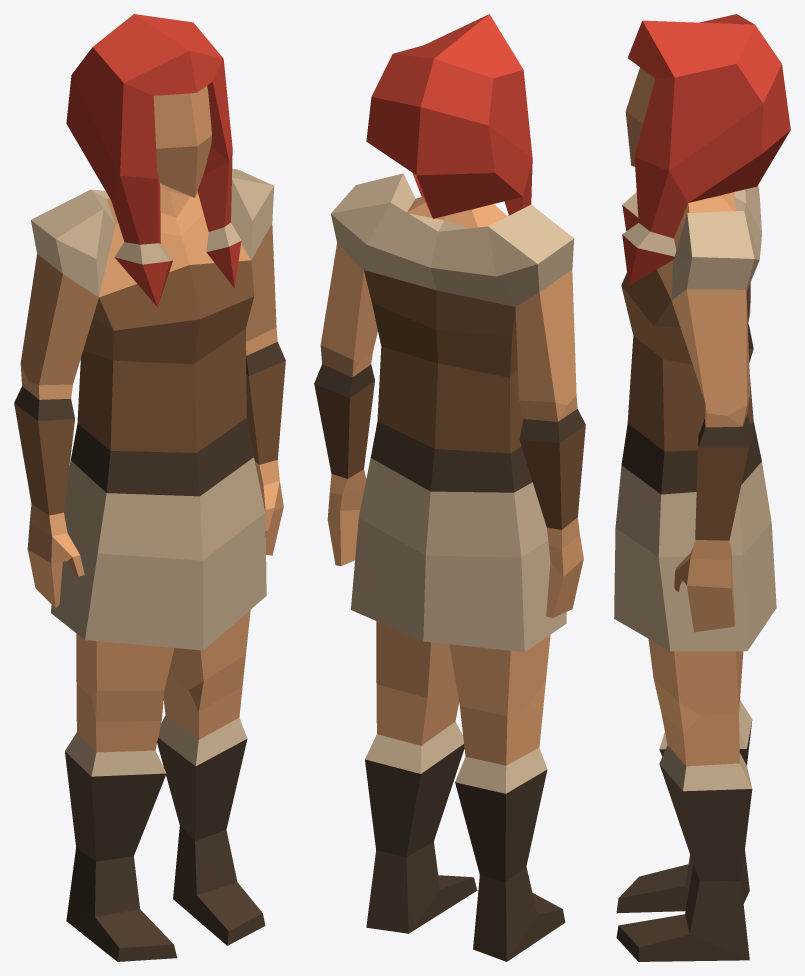
File: woman-viking.glb
The picture shows the model from 3 angles, left to right: view 1: azimuth 30°, elevation 25°; view 2: azimuth 150°, elevation 25°; view 3: azimuth 270°, elevation 25°; orthographic projection.
Parts seen in each view (by area): view 1: woman-viking; view 2: woman-viking; view 3: woman-viking.
Boxes of the visible parts, bbox=[...] form: woman-viking: bbox=[14, 14, 285, 961]; woman-viking: bbox=[314, 14, 585, 961]; woman-viking: bbox=[614, 14, 790, 961].
Bounding box in the file's own units: 0.5366 × 1.85 × 0.3266.
1 material, 1 textured.
